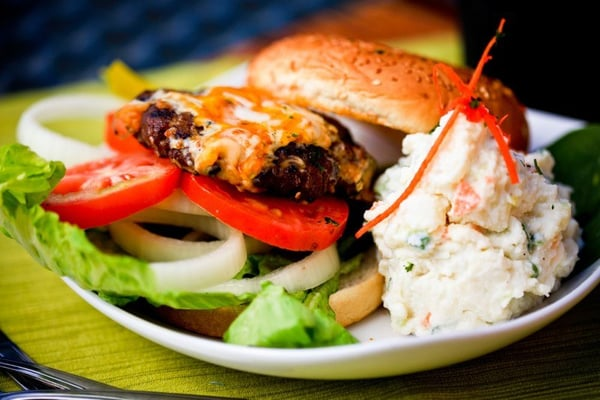pizza: (178, 170, 351, 253)
